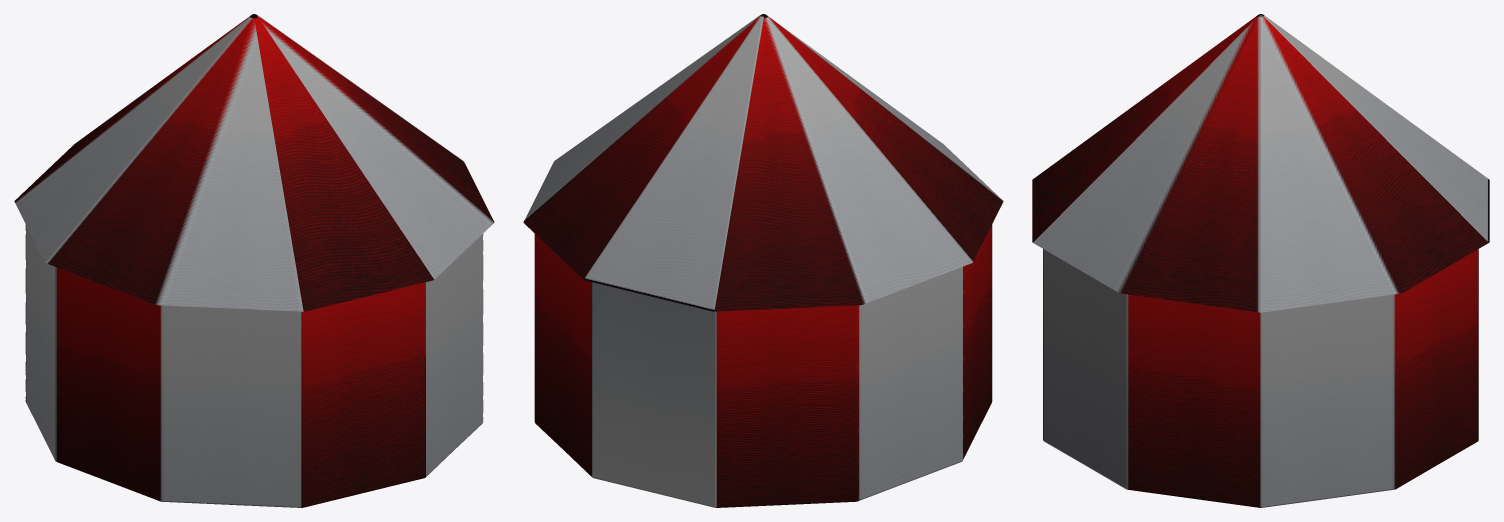
Rendered from dysto_chapiteau.fbx.
The picture shows the model from 3 angles, left to right: view 1: azimuth 30°, elevation 25°; view 2: azimuth 150°, elevation 25°; view 3: azimuth 270°, elevation 25°; orthographic projection.
Visible parts, largest first — view 1: dysto_chapiteau; view 2: dysto_chapiteau; view 3: dysto_chapiteau.
Boxes of the visible parts, x1=… form: dysto_chapiteau: x1=14, y1=14, x2=494, y2=507; dysto_chapiteau: x1=523, y1=14, x2=1003, y2=507; dysto_chapiteau: x1=1032, y1=14, x2=1489, y2=507.
Bounding box in the file's own units: 173 × 158 × 165.
Materials: 1 (1 with a texture image).
